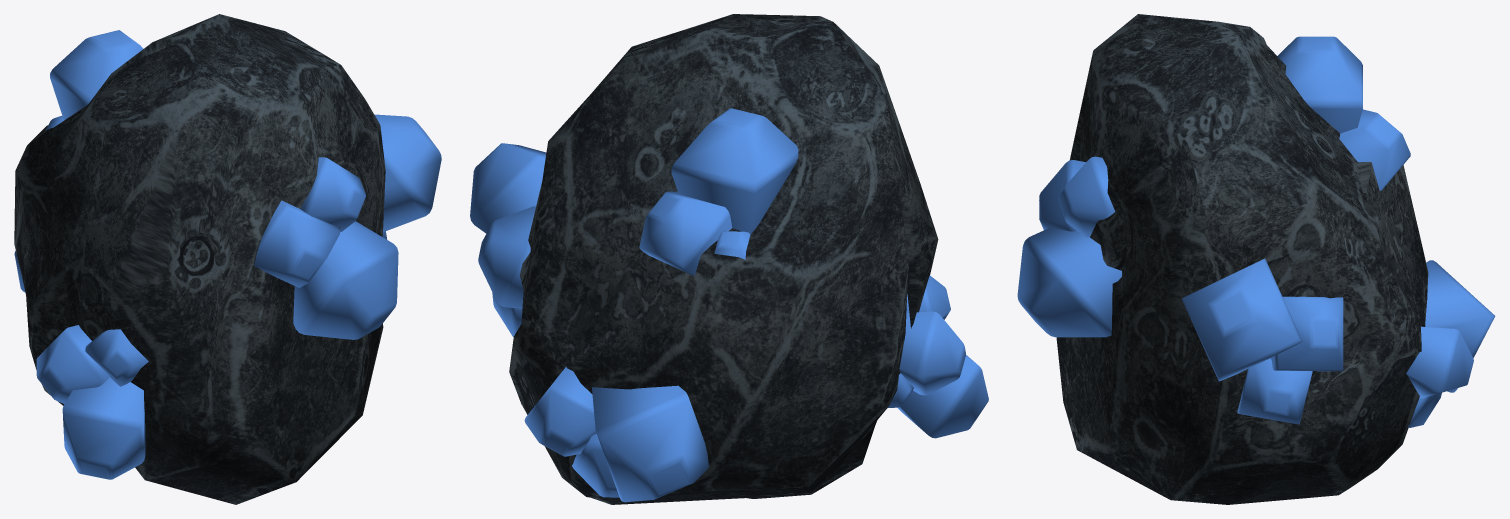
The model's file is rockBlue2.gltf.
3 views of the same model, side by side, from view 1: azimuth 30°, elevation 25°; view 2: azimuth 150°, elevation 25°; view 3: azimuth 270°, elevation 25° (orthographic). The views are drawn at different scales.
Parts seen in each view (by area): view 1: RockLP, Cube.008, Cube.012, Cube.004, Cube.011, Cube, Cube.015, Cube.010, Cube.014; view 2: RockLP, Cube.016, Cube, Cube.003, Cube.004, Cube.018, Cube.015, Cube.012, Cube.007, Cube.019, Cube.014, Cube.001; view 3: RockLP, Cube.008, Cube.004, Cube, Cube.007, Cube.016, Cube.018, Cube.006, Cube.003, Cube.010, Cube.011, Cube.019.
Boxes of the visible parts, x1,y1,x2,y2 form: RockLP: [14, 14, 385, 504]; Cube.008: [293, 221, 398, 339]; Cube.012: [62, 377, 145, 479]; Cube.004: [374, 114, 441, 232]; Cube.011: [254, 200, 340, 287]; Cube: [50, 30, 143, 120]; Cube.015: [36, 325, 109, 403]; Cube.010: [300, 157, 365, 231]; Cube.014: [85, 329, 148, 386]; RockLP: [509, 14, 938, 504]; Cube.016: [592, 385, 708, 502]; Cube: [671, 108, 798, 234]; Cube.003: [639, 191, 732, 276]; Cube.004: [470, 143, 546, 233]; Cube.018: [524, 367, 596, 456]; Cube.015: [899, 311, 965, 395]; Cube.012: [897, 355, 988, 438]; Cube.007: [478, 206, 535, 308]; Cube.019: [572, 433, 619, 497]; Cube.014: [906, 275, 950, 319]; Cube.001: [714, 231, 750, 259]; RockLP: [1056, 14, 1428, 504]; Cube.008: [1017, 227, 1121, 337]; Cube.004: [1181, 258, 1302, 381]; Cube: [1277, 36, 1362, 133]; Cube.007: [1271, 296, 1343, 371]; Cube.016: [1425, 260, 1495, 392]; Cube.018: [1406, 326, 1473, 398]; Cube.006: [1237, 358, 1312, 424]; Cube.003: [1339, 109, 1410, 190]; Cube.010: [1058, 156, 1115, 237]; Cube.011: [1039, 160, 1085, 231]; Cube.019: [1408, 392, 1441, 427].
Size of the model in its own units: 3.02 by 3.05 by 2.91.
2 materials, 1 textured.
